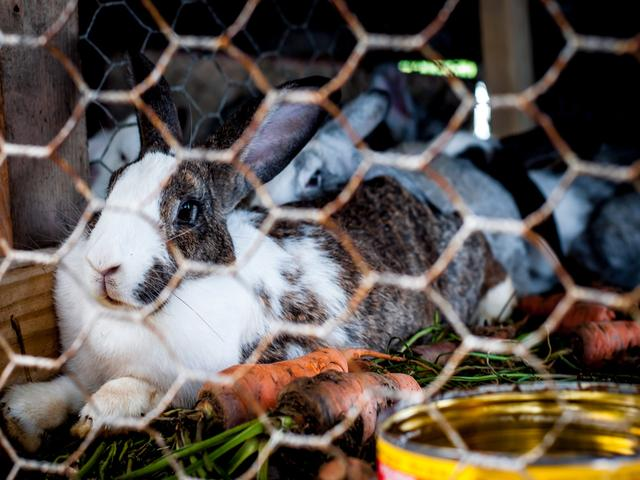rabbit: (27, 62, 563, 447)
